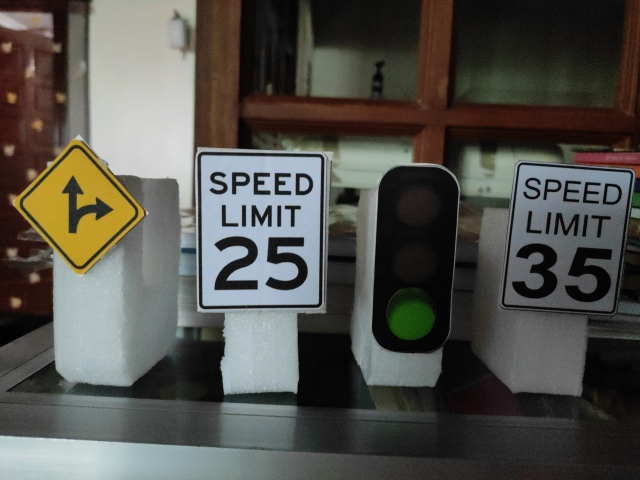Green Traffic Light: (371, 163, 461, 354)
Speed Limit 25: (195, 148, 327, 313)
Speed Limit 35: (500, 160, 635, 315)
Straight Or Right Sign: (16, 143, 144, 275)
